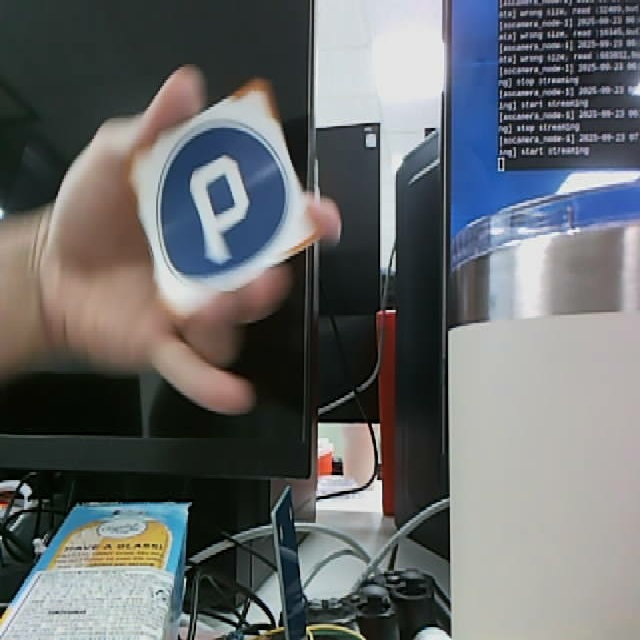parking: (123, 80, 325, 316)
